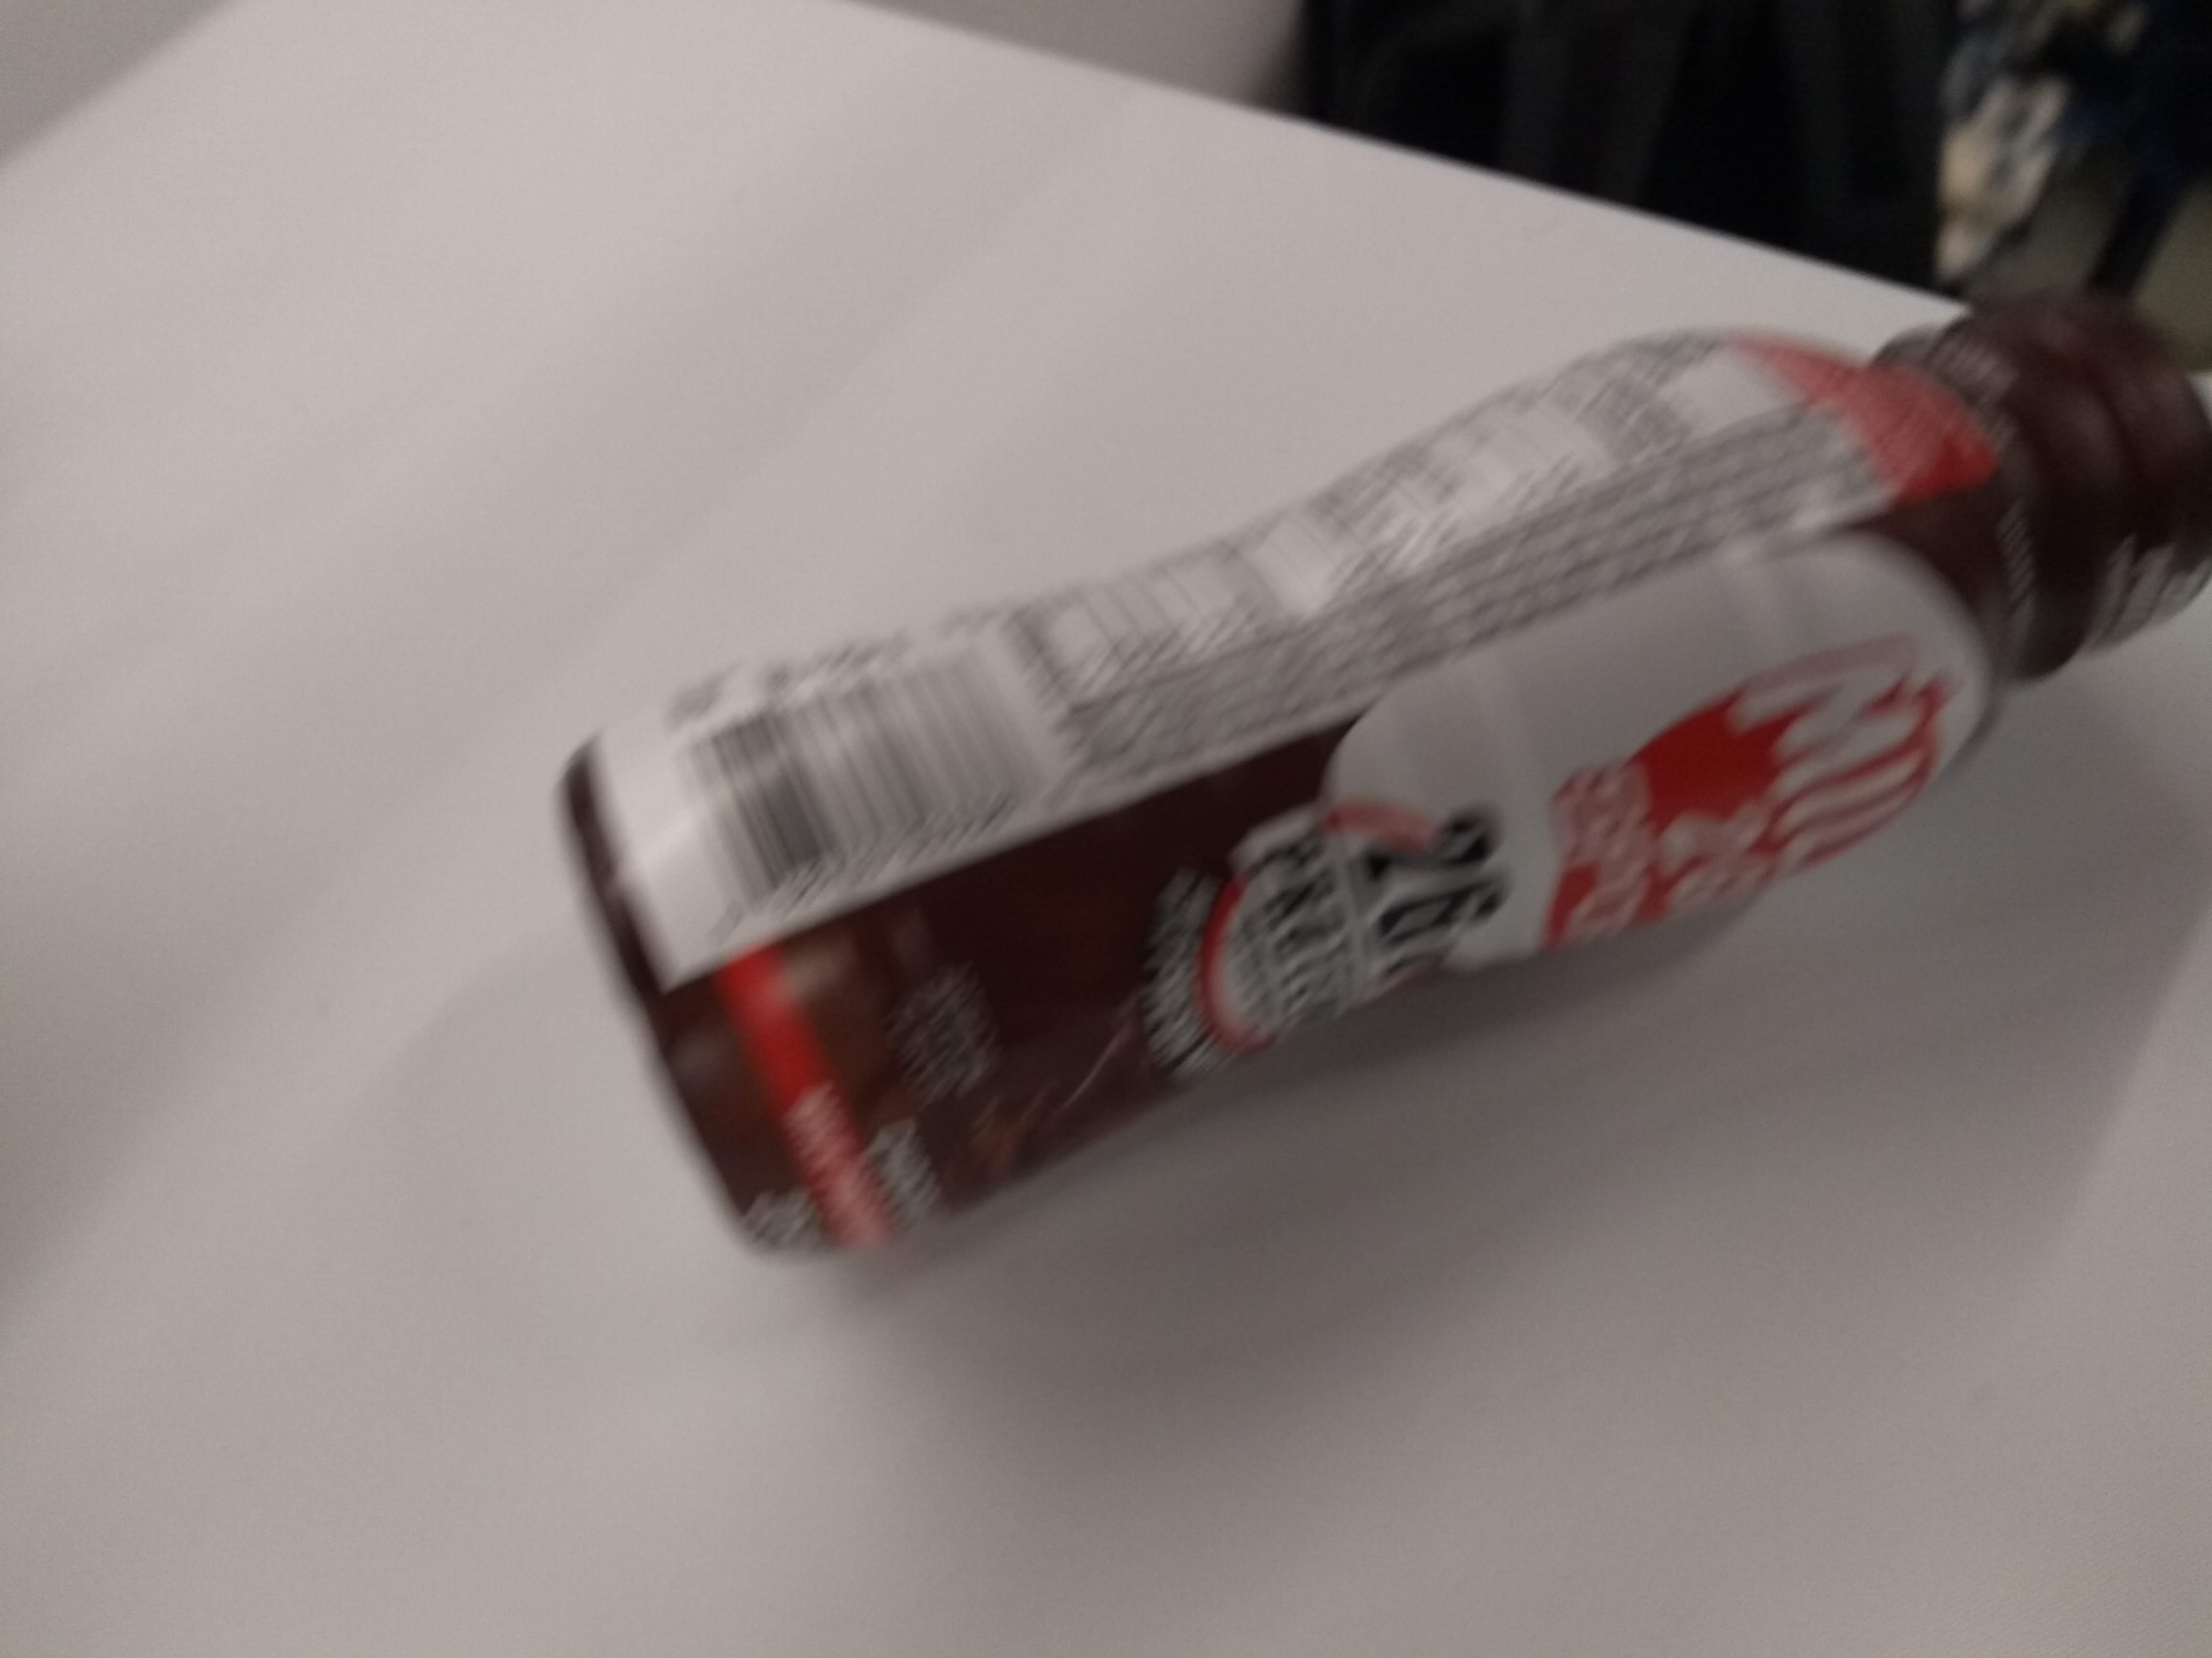chocolate_drink: (526, 286, 2212, 1287)
